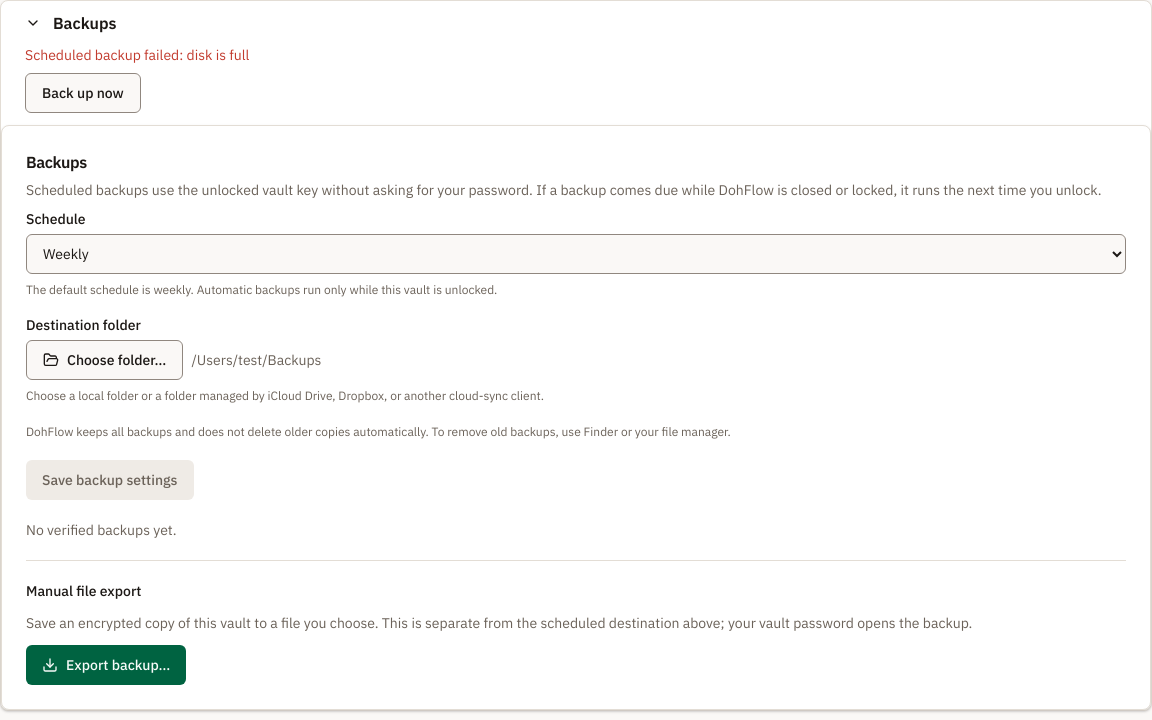
Backups › the save-first note travels with Back up now, and is described once
This screenshot has width=1152, height=720.
Expected: the text "Scheduled backup failed: disk is full" is shown, top-left (25, 46), bottom-right (249, 64)
Step 1. Click the button "Choose folder…" → click(105, 360), box top-left (26, 340), bottom-right (183, 380)
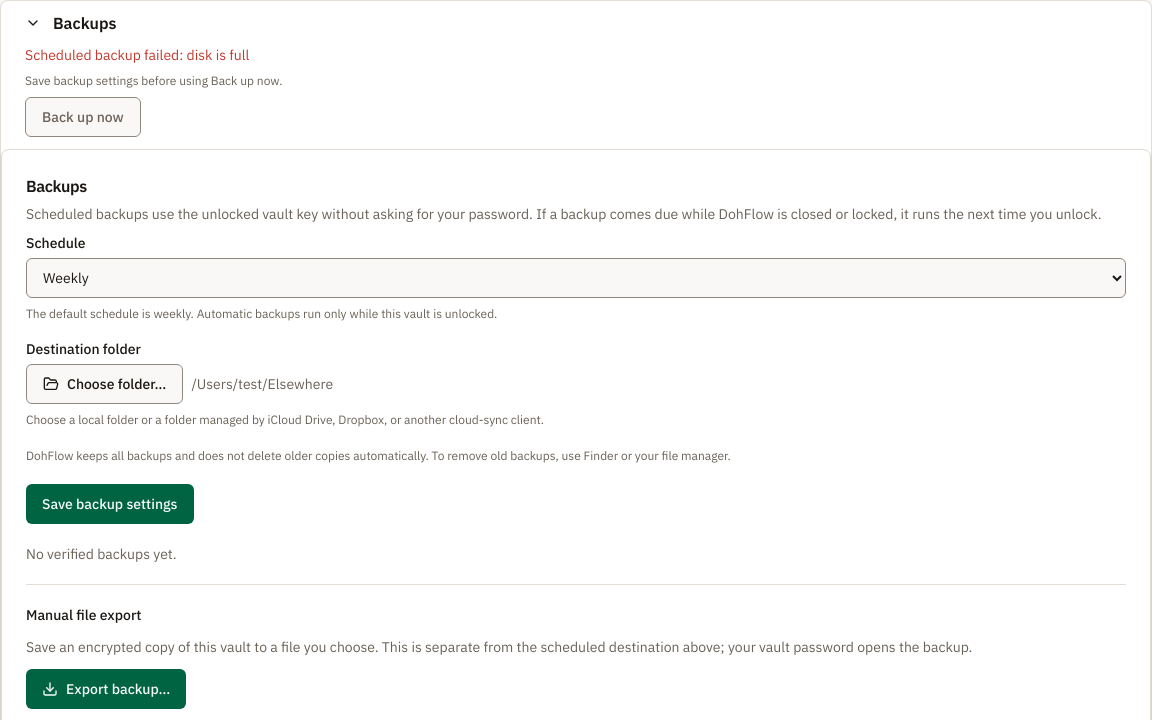
Now the text "/Users/test/Elsewhere" is shown, box top-left (191, 374), bottom-right (333, 394)
Now the number of elements with id "backup-now-save-first" is 1, box top-left (25, 73), bottom-right (282, 88)
